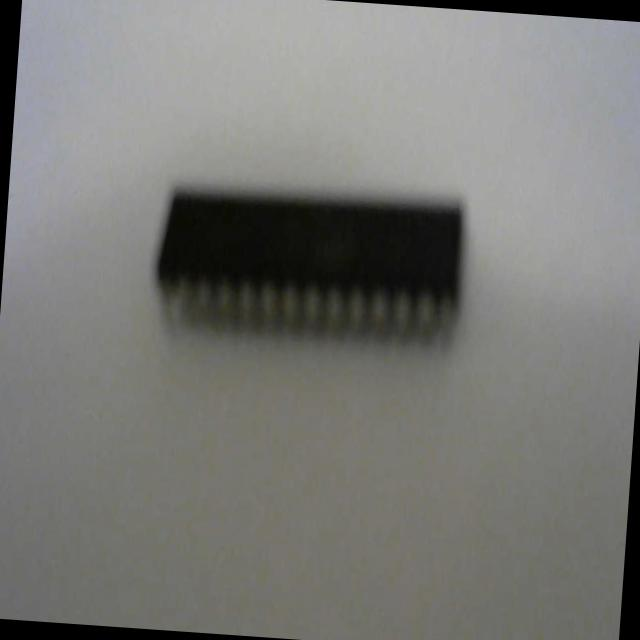atmega: (148, 172, 470, 359)
